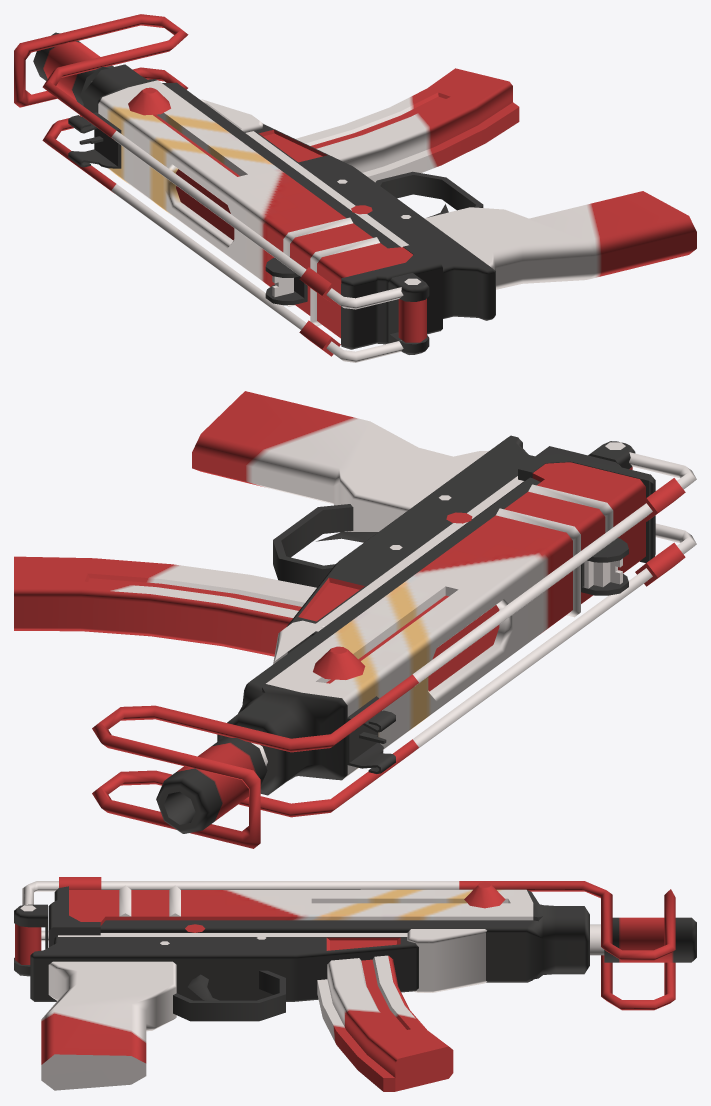
Rendered from tsubaki.glb.
3 views of the same model, one above another, from view 1: azimuth 30°, elevation 25°; view 2: azimuth 150°, elevation 25°; view 3: azimuth 270°, elevation 25° (orthographic). The views are drawn at different scales.
Parts seen in each view (by area): view 1: Tsubaki_Original_Weapon.001; view 2: Tsubaki_Original_Weapon.001; view 3: Tsubaki_Original_Weapon.001.
Boxes of the visible parts, <box> form: Tsubaki_Original_Weapon.001: <box>14,14,696,362</box>; Tsubaki_Original_Weapon.001: <box>14,391,696,848</box>; Tsubaki_Original_Weapon.001: <box>14,877,696,1091</box>.
Size of the model in its own units: 0.1571 by 0.0409 by 0.2675.
Materials: 1 (1 with a texture image).
